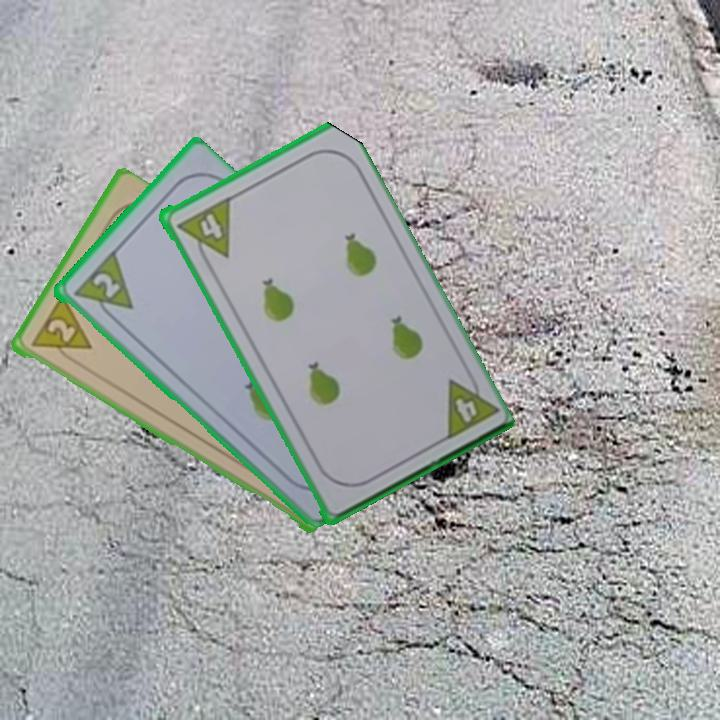2p: (26, 293, 94, 367), (88, 269, 123, 302)
4p: (192, 197, 233, 257), (450, 394, 480, 426)
